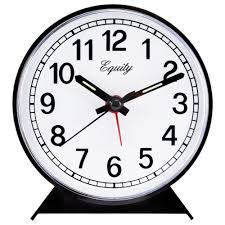alarm_clock: (17, 7, 209, 218)
